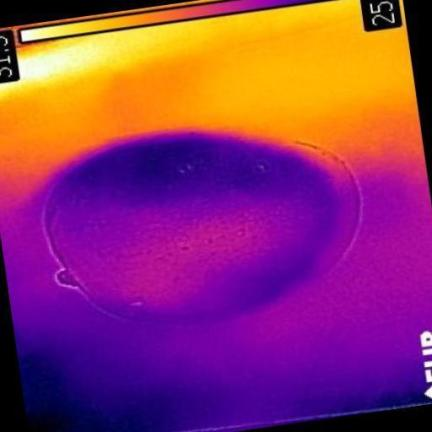mango: (45, 134, 360, 322)
